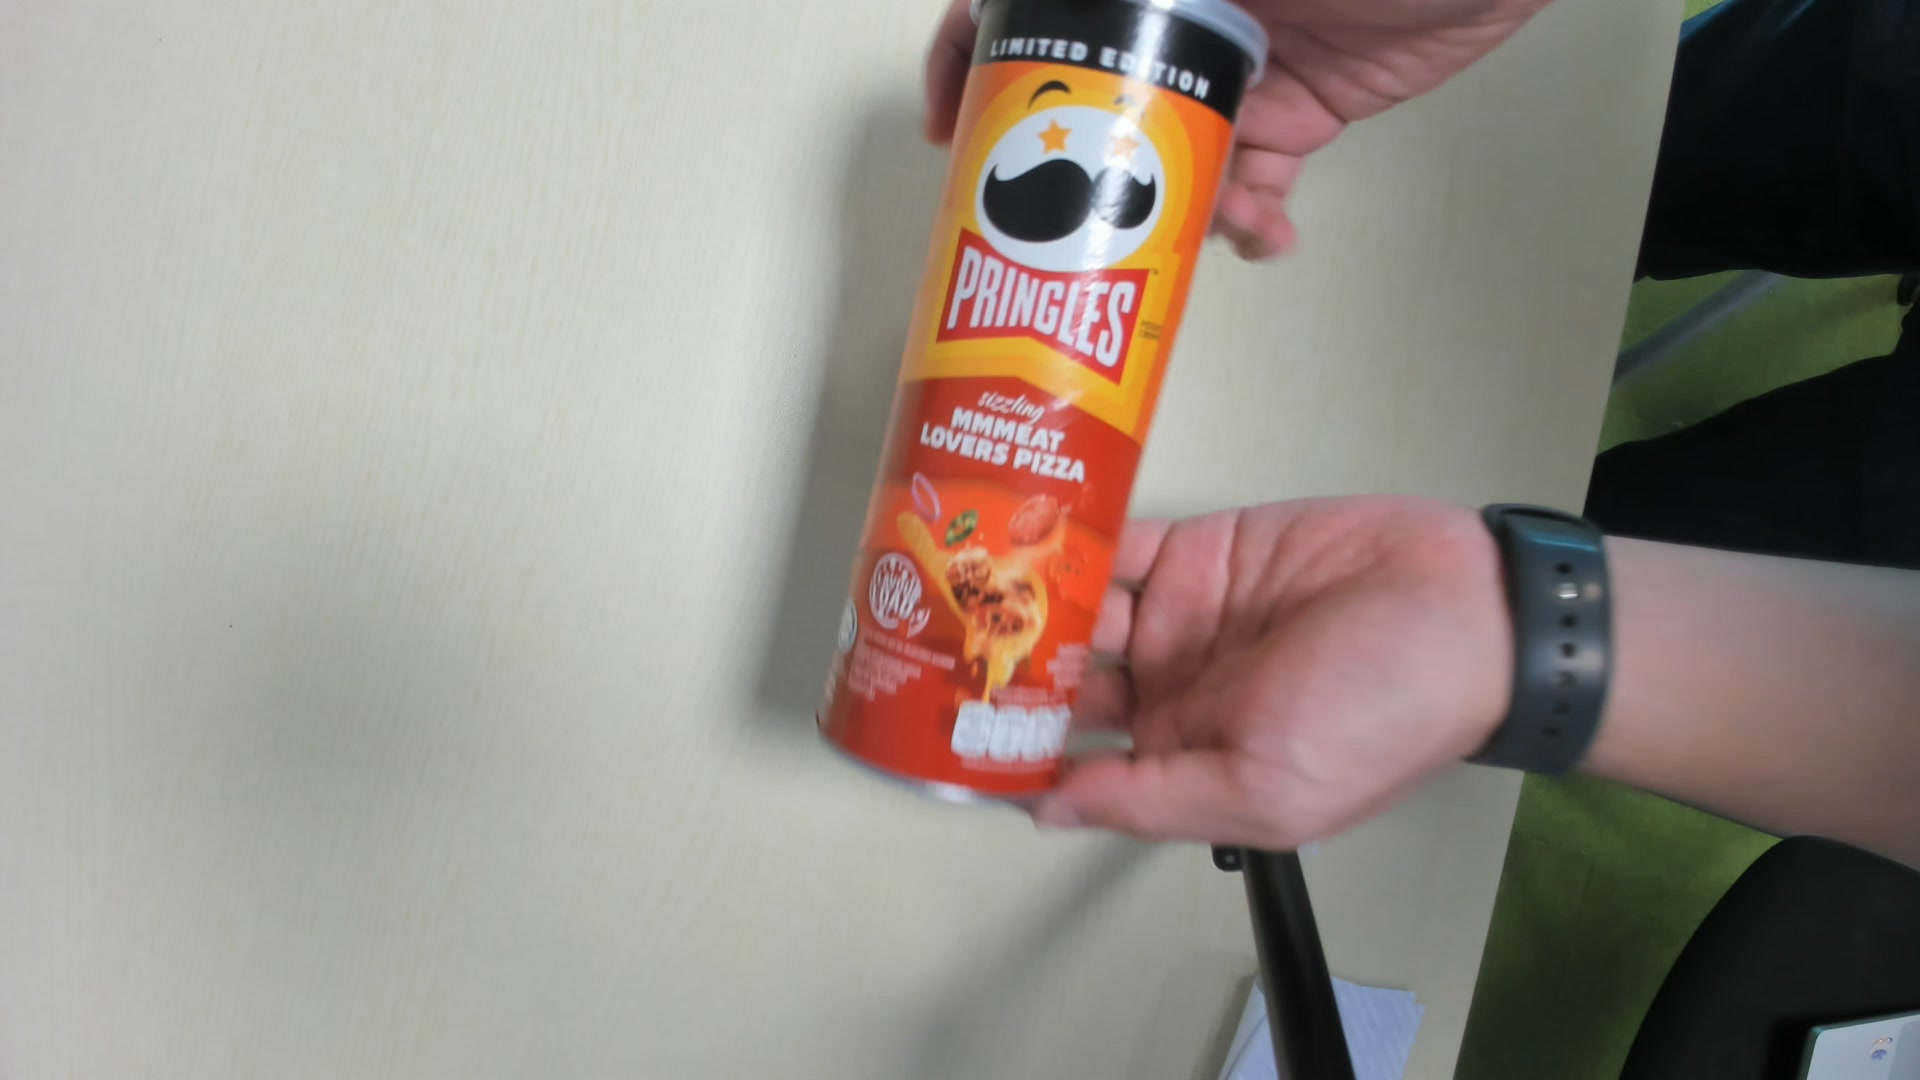PotatoChipsKeropok_0-99g_Halal_NonHealthy: (835, 12, 1261, 800)
